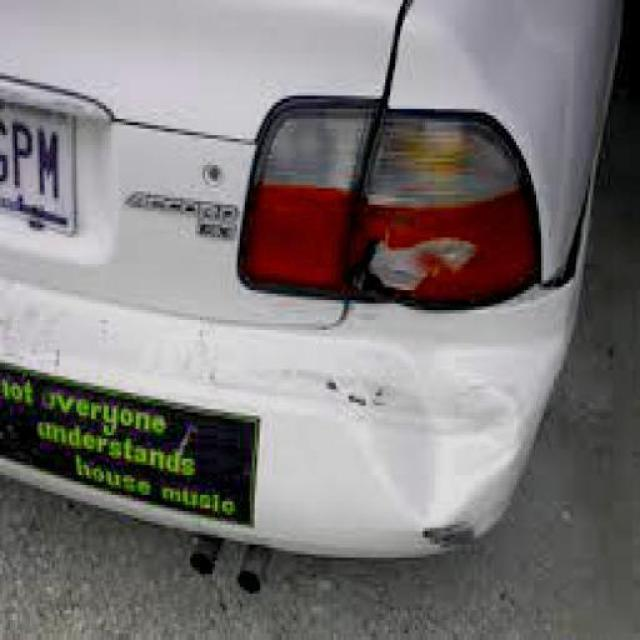car damage: (317, 351, 536, 557), (354, 227, 482, 299)
